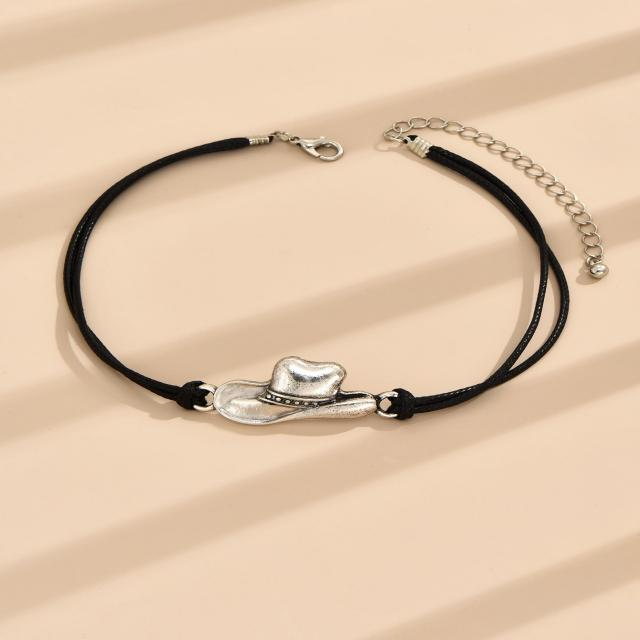bracelet: (0, 70, 640, 429)
